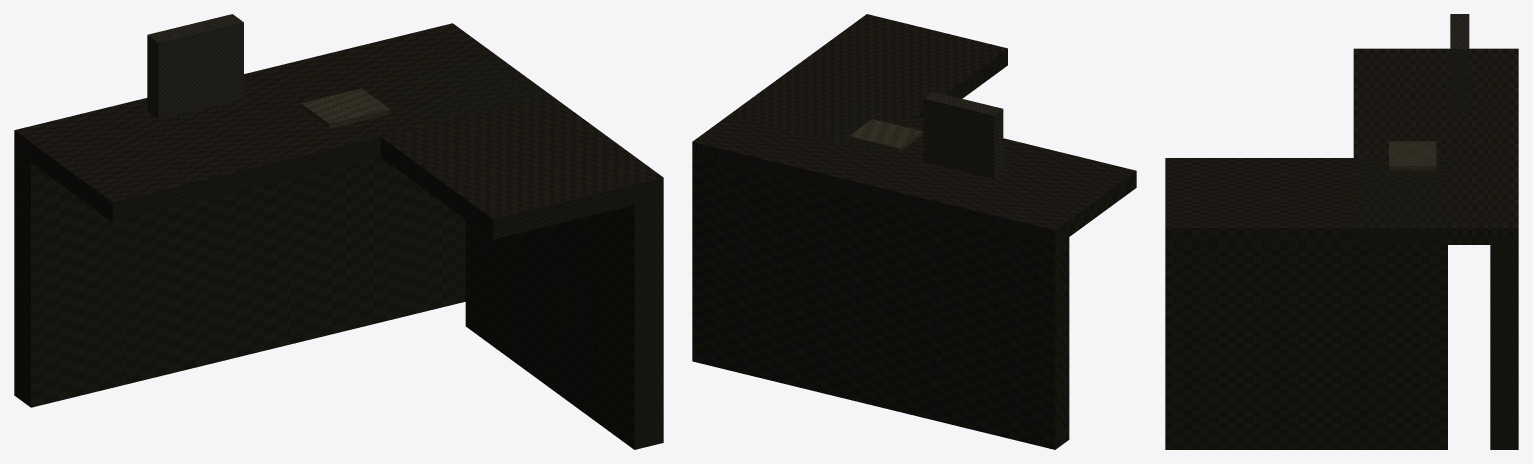
The model's file is prop_security_desk.glb.
3 renders of one model, left to right at view 1: azimuth 30°, elevation 25°; view 2: azimuth 150°, elevation 25°; view 3: azimuth 270°, elevation 25°, orthographic. The views are drawn at different scales.
Parts seen in each view (by area): view 1: prop_security_desk; view 2: prop_security_desk; view 3: prop_security_desk.
Boxes of the visible parts, box(x1,y1,x2,y2) form: prop_security_desk: box(14, 14, 663, 449); prop_security_desk: box(692, 14, 1136, 449); prop_security_desk: box(1165, 14, 1518, 449).
Size of the model in its own units: 1.8 by 1.4 by 1.5.
1 material, 1 textured.
